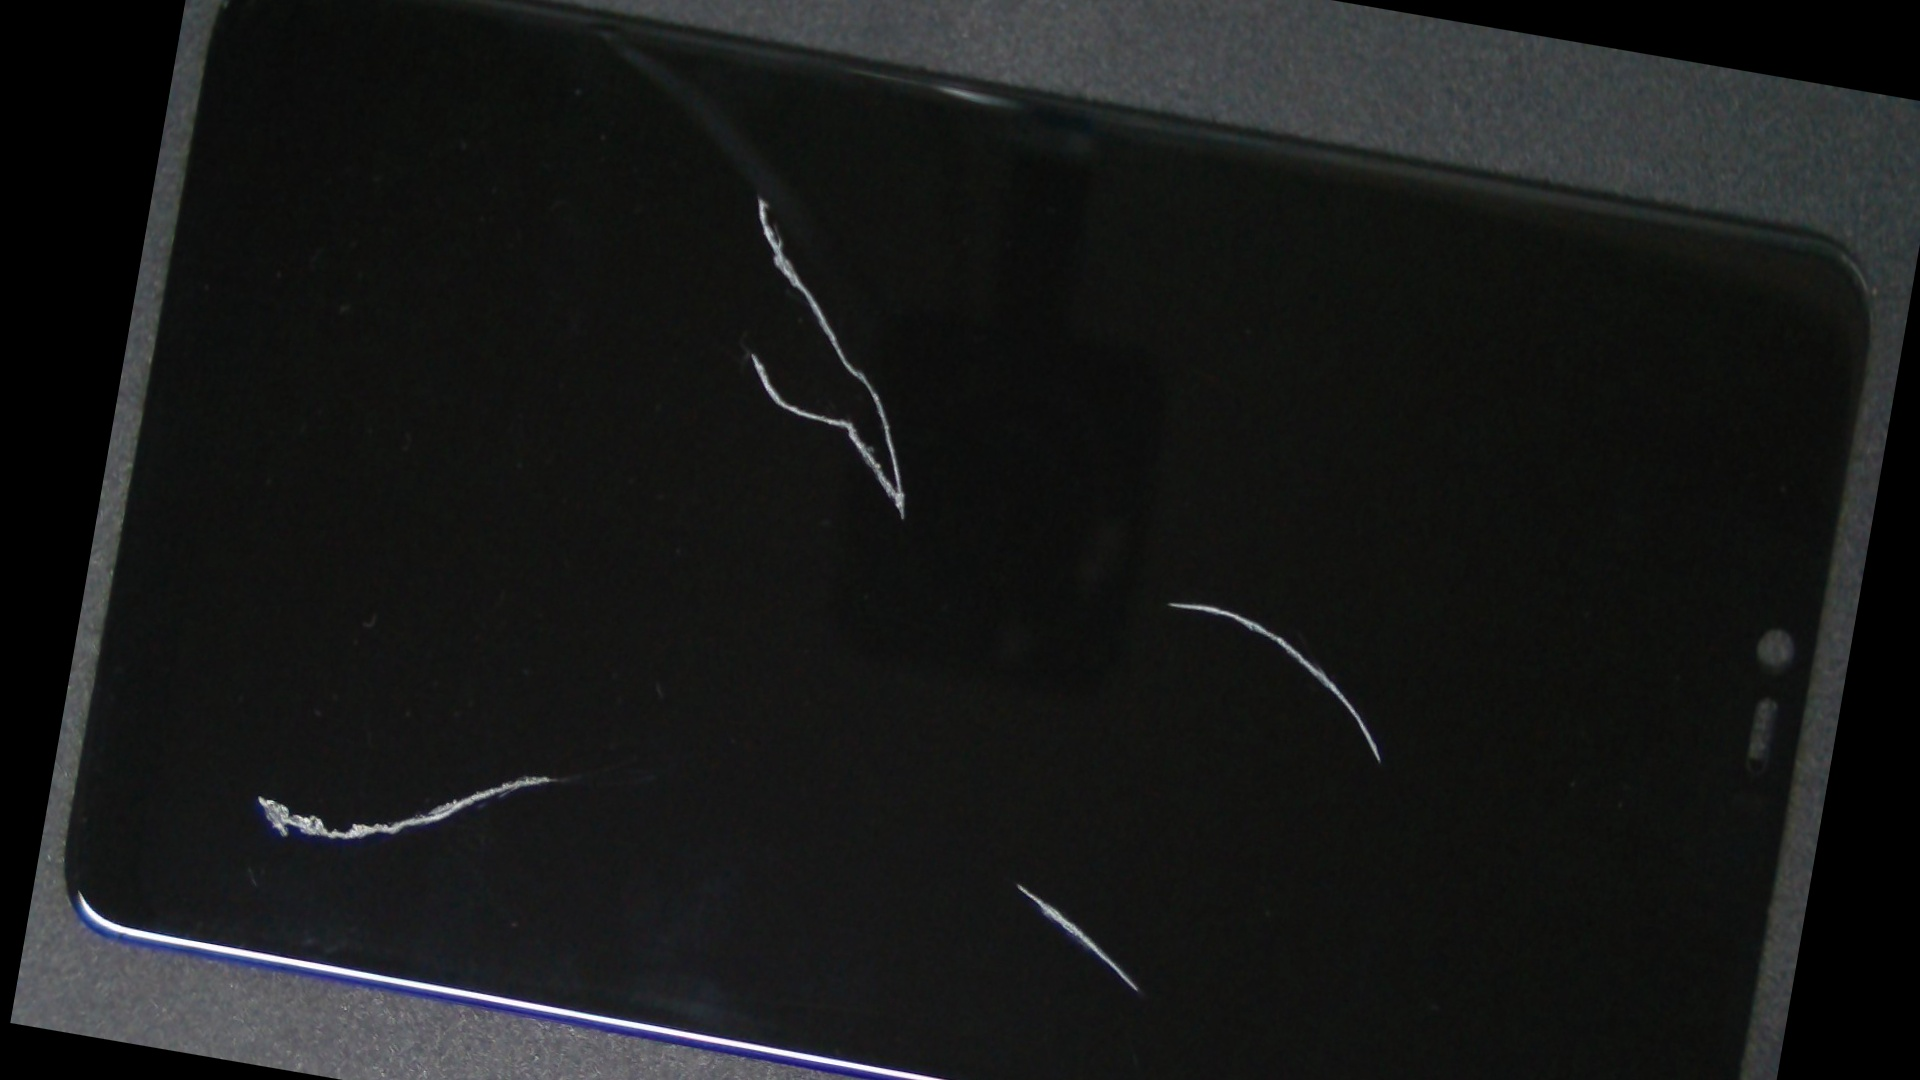oil: (611, 206, 1809, 1002), (487, 345, 1571, 1080), (260, 293, 890, 1080), (438, 0, 1076, 390)
